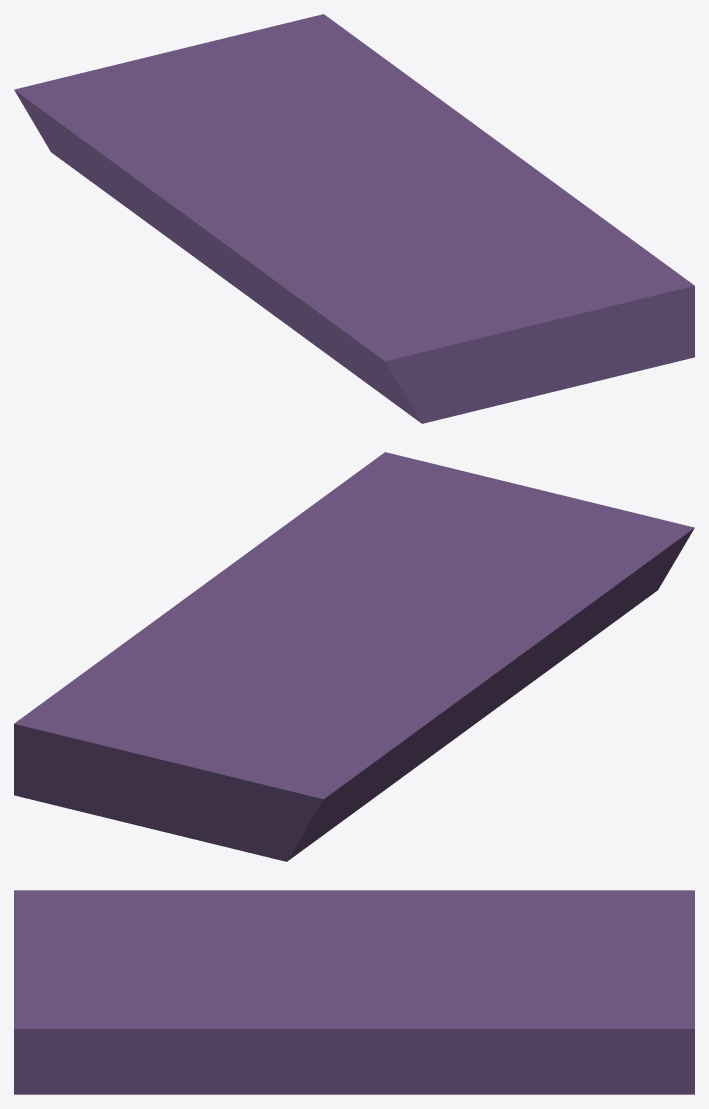
3 renders of one model, top to bottom at view 1: azimuth 30°, elevation 25°; view 2: azimuth 150°, elevation 25°; view 3: azimuth 270°, elevation 25°, orthographic. The views are drawn at different scales.
Visible parts, largest first — view 1: geometry_1; view 2: geometry_1; view 3: geometry_1.
Boxes of the visible parts, <box> form: geometry_1: <box>14,14,694,423</box>; geometry_1: <box>14,452,694,861</box>; geometry_1: <box>14,890,694,1094</box>.
Size of the model in its own units: 0.0193 by 0.00426 by 0.04.
